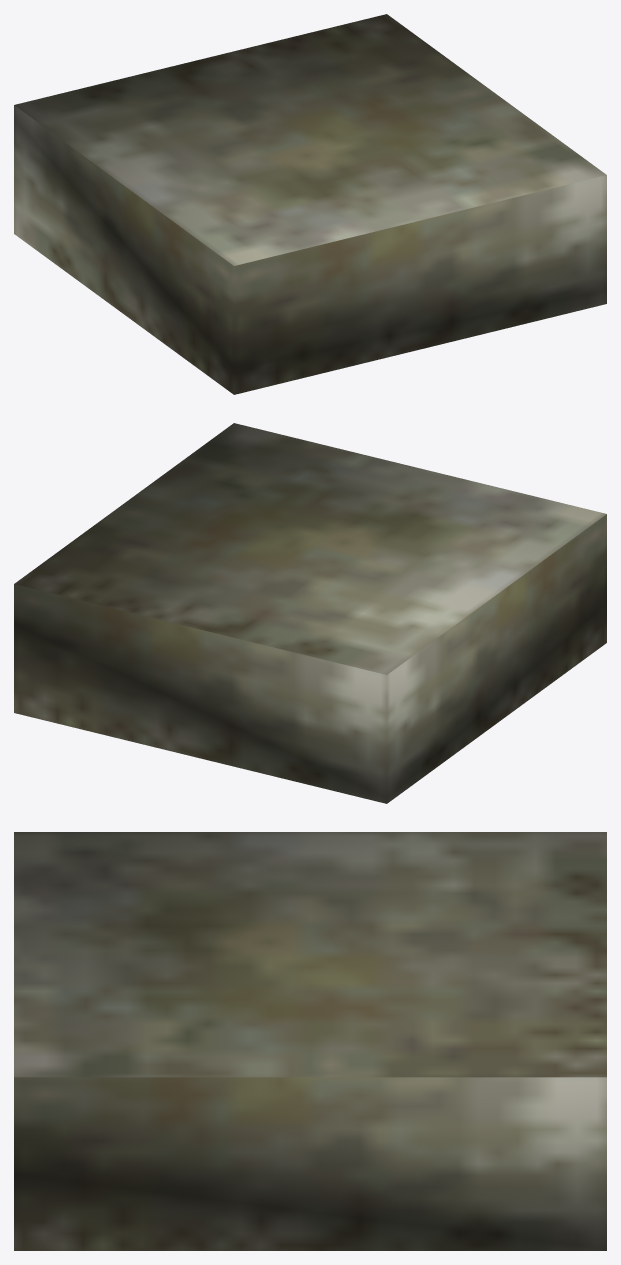
Rendered from OZ_22_ma_block05C.glb.
3 renders of one model, top to bottom at view 1: azimuth 30°, elevation 25°; view 2: azimuth 150°, elevation 25°; view 3: azimuth 270°, elevation 25°, orthographic. The views are drawn at different scales.
Visible parts, largest first — view 1: OM_22_ma_block05C; view 2: OM_22_ma_block05C; view 3: OM_22_ma_block05C.
Boxes of the visible parts, x1,y1,x2,y2 form: OM_22_ma_block05C: (14, 14, 606, 394); OM_22_ma_block05C: (14, 423, 606, 803); OM_22_ma_block05C: (14, 832, 606, 1250).
Bounding box in the file's own units: 0.7336 × 0.2423 × 0.7498.
1 material, 1 textured.
